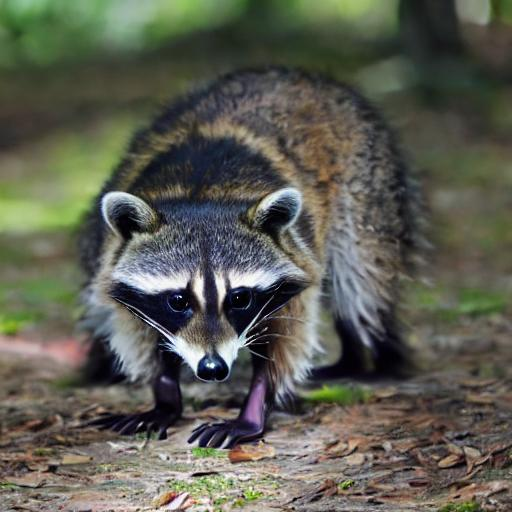raccoon: (66, 54, 422, 414)
